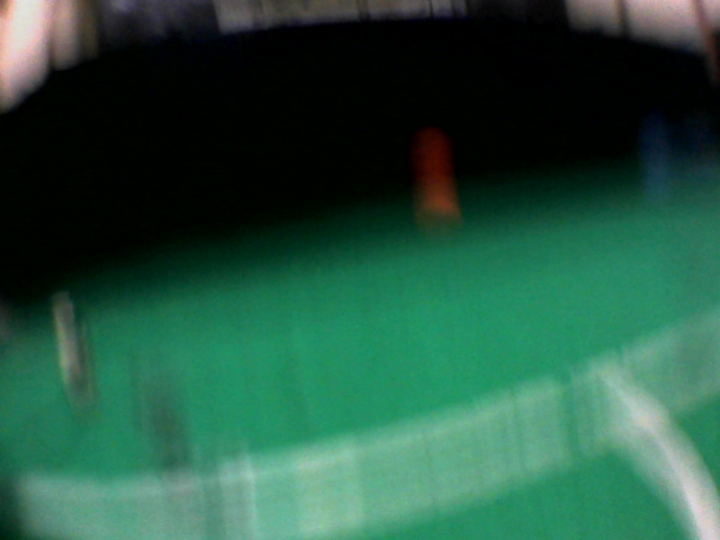bola: (414, 140, 466, 226)
